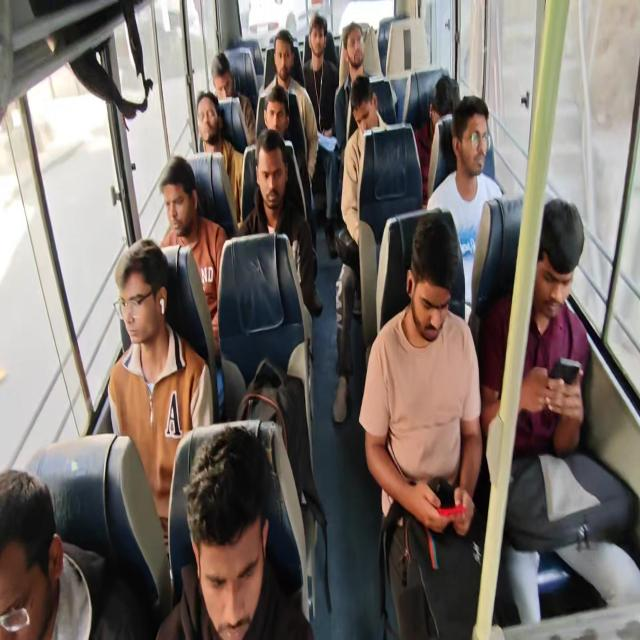person: (169, 375, 326, 640), (0, 451, 106, 640), (528, 192, 606, 386), (393, 232, 470, 376), (128, 234, 184, 369), (239, 146, 304, 252), (155, 157, 220, 259), (458, 82, 502, 182), (243, 81, 310, 146), (270, 23, 312, 101), (184, 84, 223, 150), (305, 22, 342, 86), (331, 22, 370, 82), (354, 76, 386, 148), (202, 38, 238, 85), (429, 66, 455, 120)
